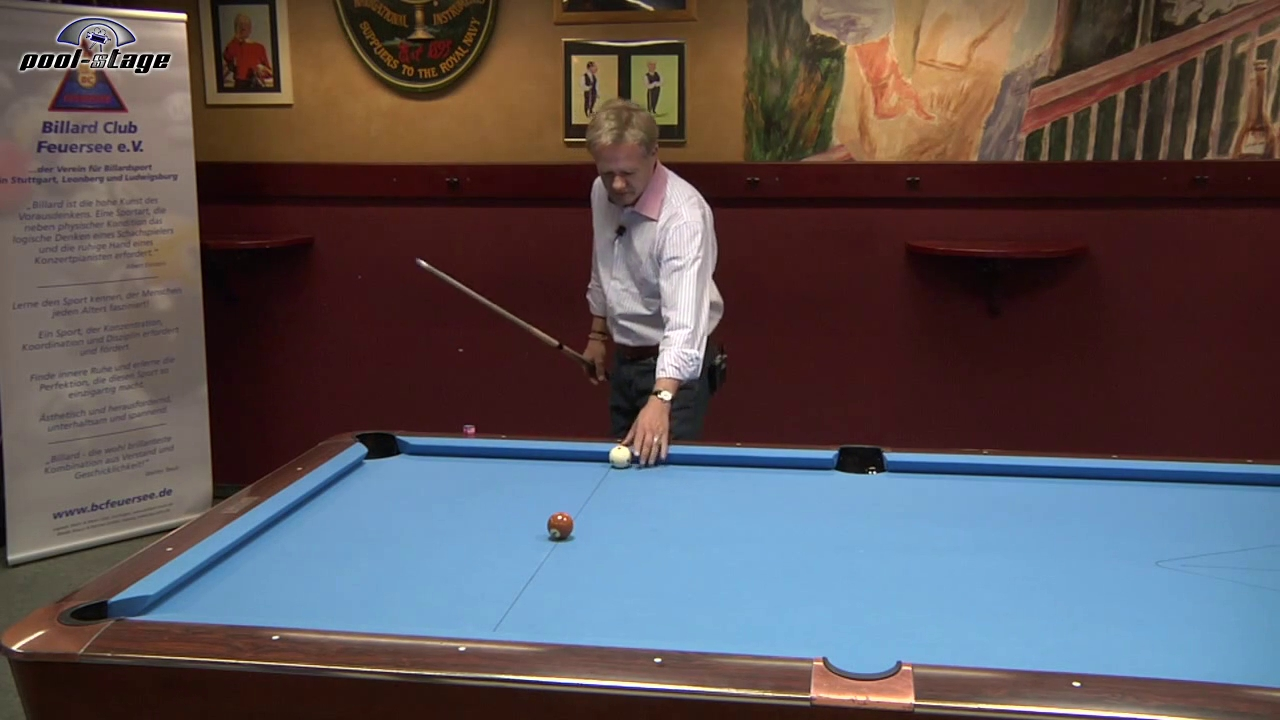person: (581, 99, 728, 467)
